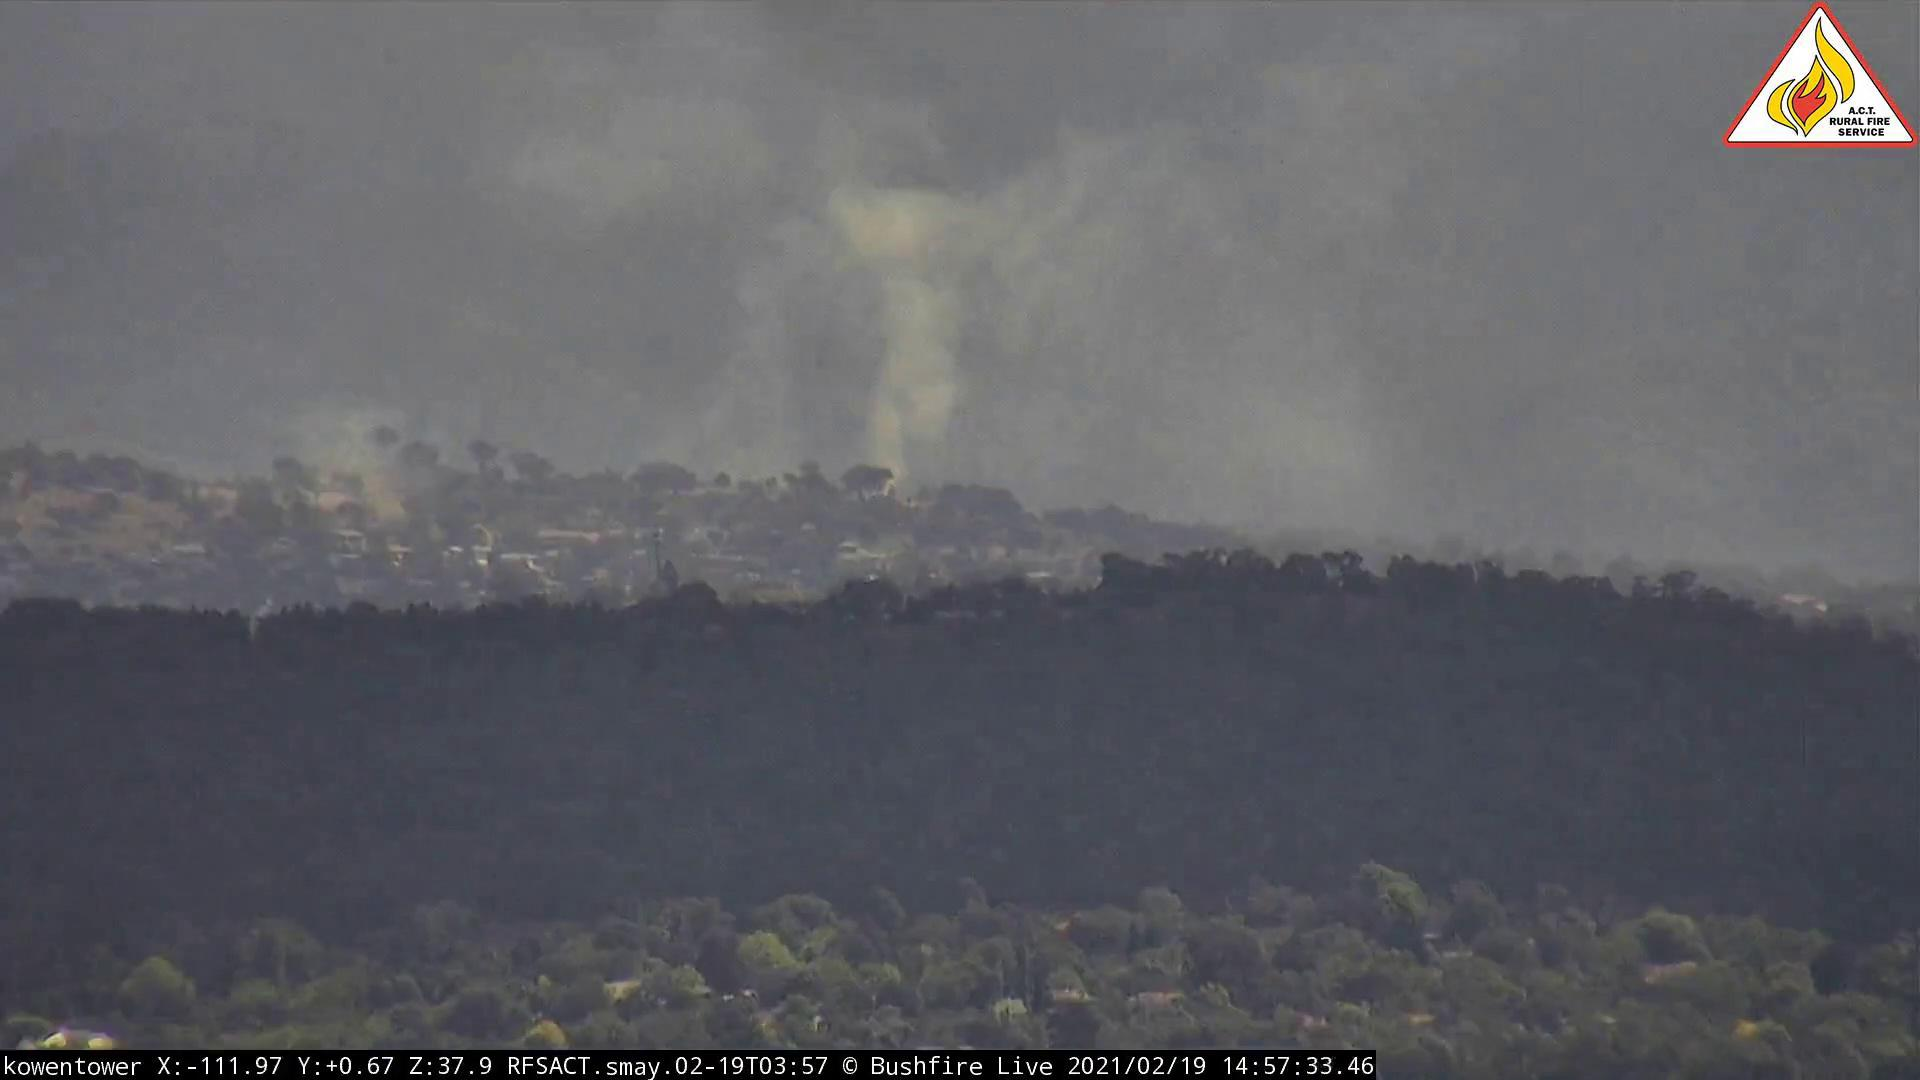instance_salient_object: (625, 108, 1437, 520), (274, 381, 495, 542)
